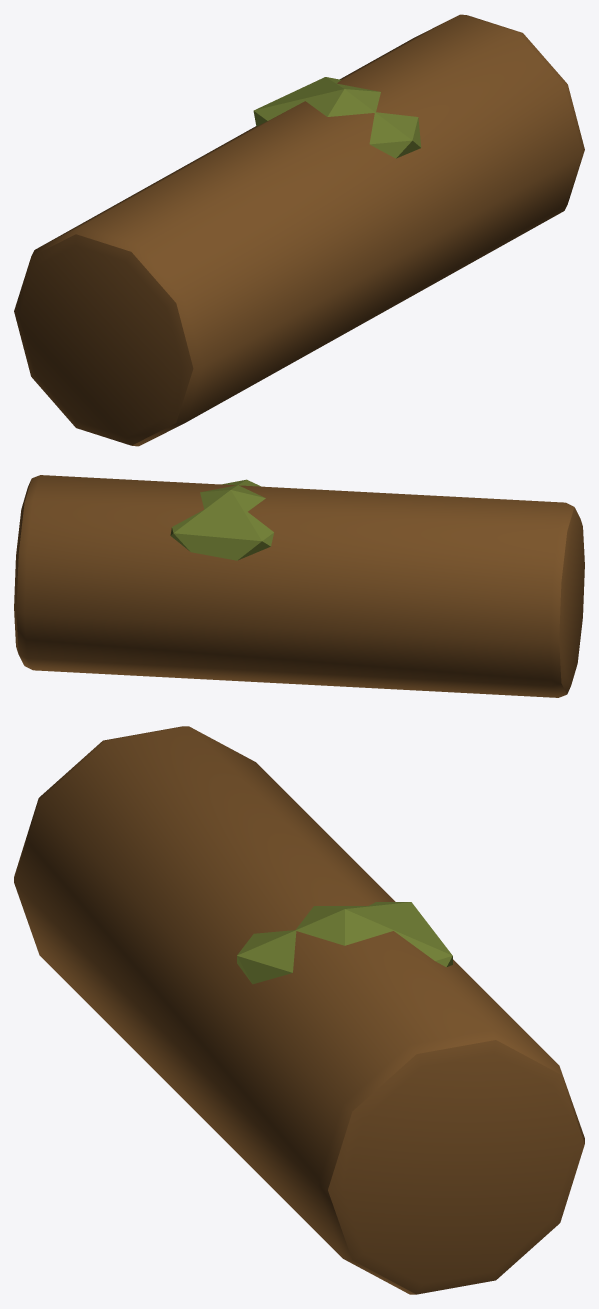
File: prop_log.glb
The picture shows the model from 3 angles, top to bottom: view 1: azimuth 30°, elevation 25°; view 2: azimuth 150°, elevation 25°; view 3: azimuth 270°, elevation 25°; orthographic projection. The views are drawn at different scales.
Visible parts, largest first — view 1: log, log_moss; view 2: log, log_moss; view 3: log, log_moss.
Boxes of the visible parts, bbox=[...] form: log: bbox=[14, 14, 584, 446]; log_moss: bbox=[253, 77, 421, 158]; log: bbox=[14, 475, 584, 697]; log_moss: bbox=[170, 479, 273, 560]; log: bbox=[14, 726, 584, 1294]; log_moss: bbox=[237, 902, 452, 984].
Size of the model in its own units: 0.938 by 0.3222 by 0.6296.
